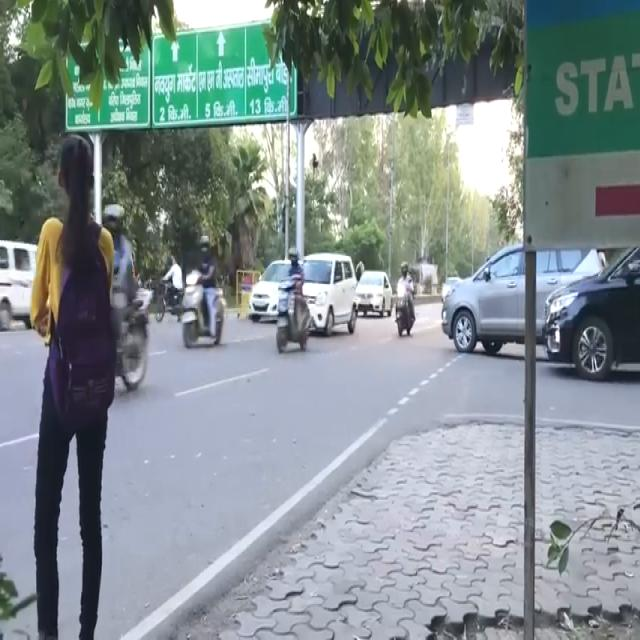MOTORCYCLE: (182, 277, 228, 350), (275, 293, 309, 354), (396, 289, 417, 340)
SUV: (440, 230, 600, 370)
